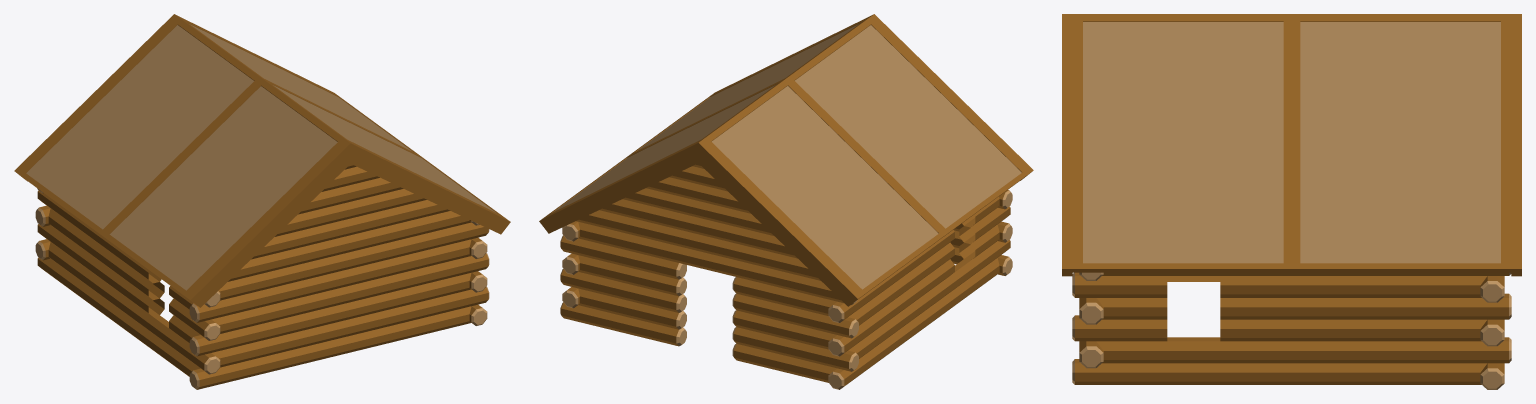
Rendered from huisv1.fbx.
The picture shows the model from 3 angles, left to right: view 1: azimuth 30°, elevation 25°; view 2: azimuth 150°, elevation 25°; view 3: azimuth 270°, elevation 25°; orthographic projection. The views are drawn at different scales.
Visible parts, largest first — view 1: huis; view 2: huis; view 3: huis.
Part boxes in pixels (<box>): huis: <box>14,14,510,389</box>; huis: <box>539,14,1033,389</box>; huis: <box>1062,14,1521,389</box>.
Size of the model in its own units: 924 by 602 by 883.
